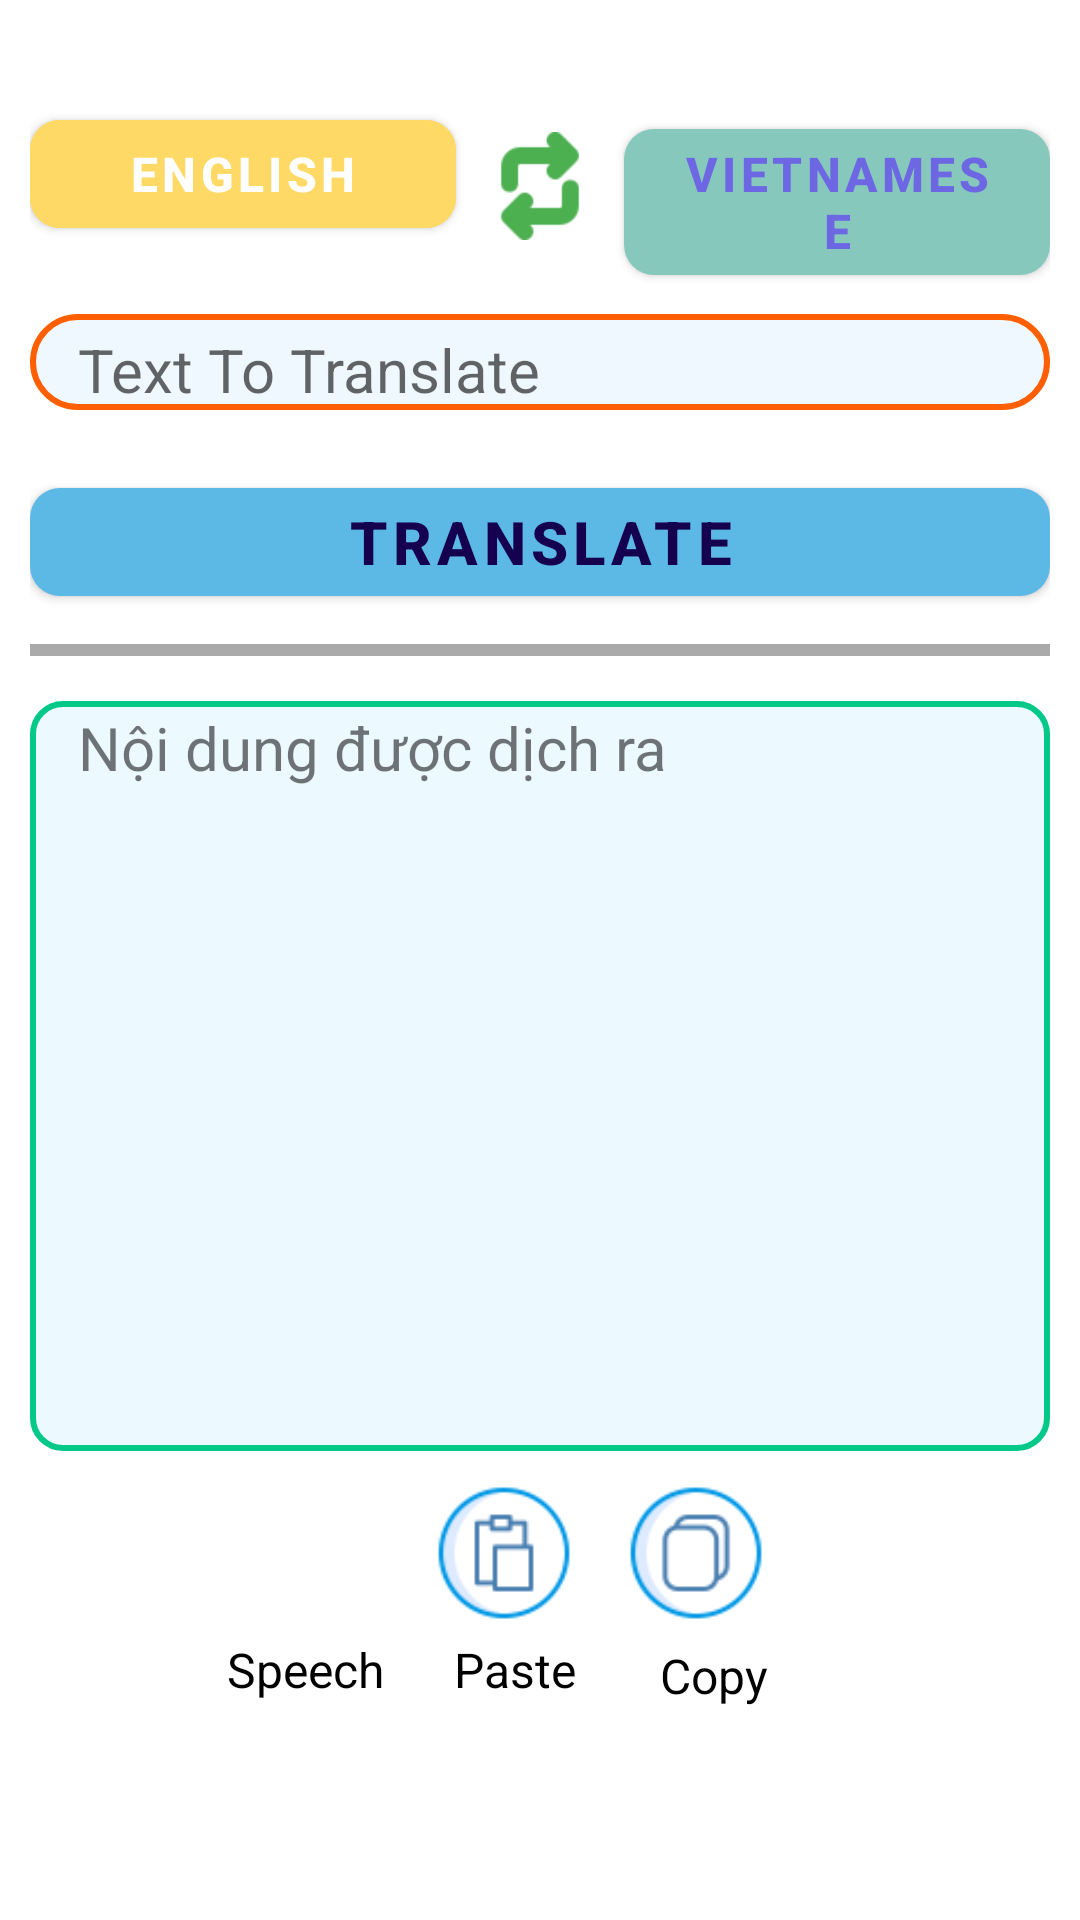

Icons on this 1080px x 1920px Android screen, each with its box as (x1, y1, x2, y2):
exchange: (501, 132, 579, 240)
